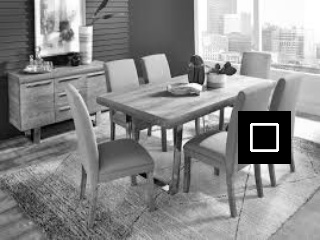square: (238, 111, 291, 164)
